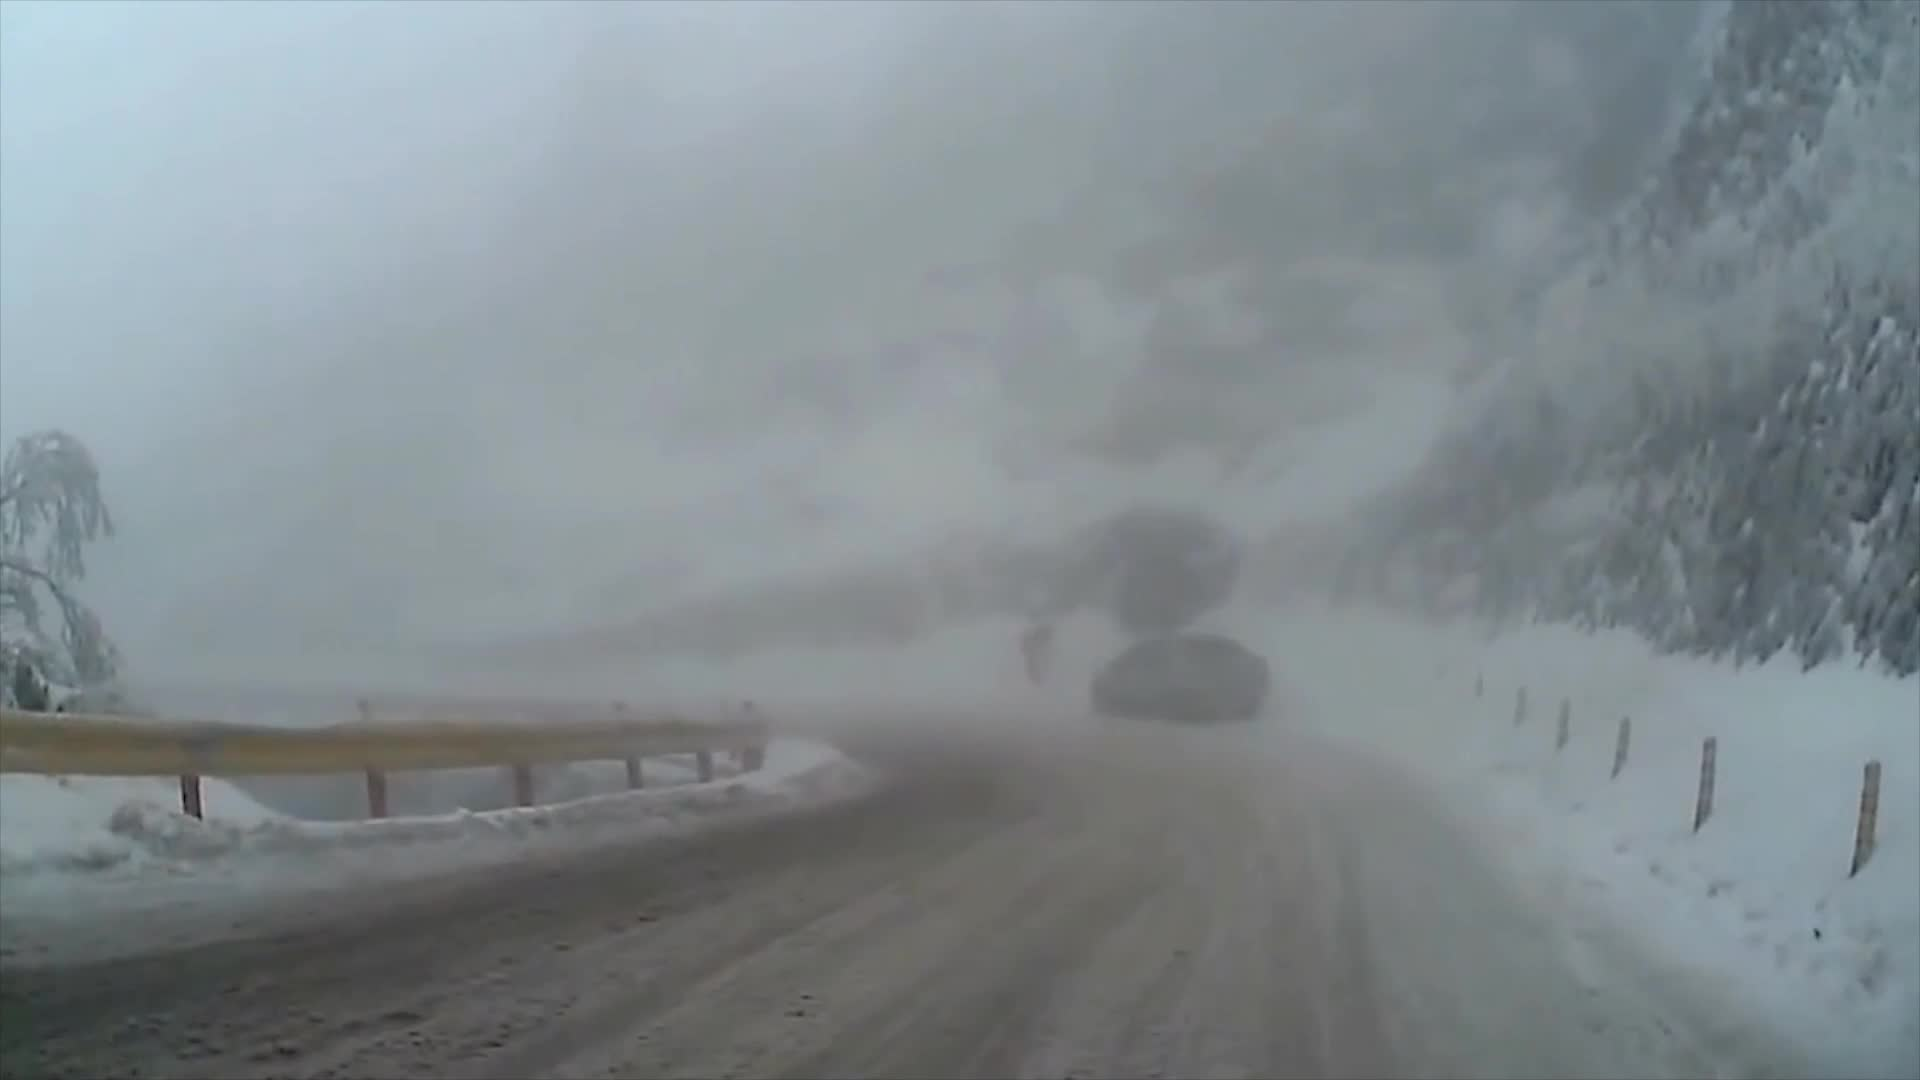pedestrian: (1019, 621, 1057, 691)
vehicle: (1091, 635, 1268, 723)
